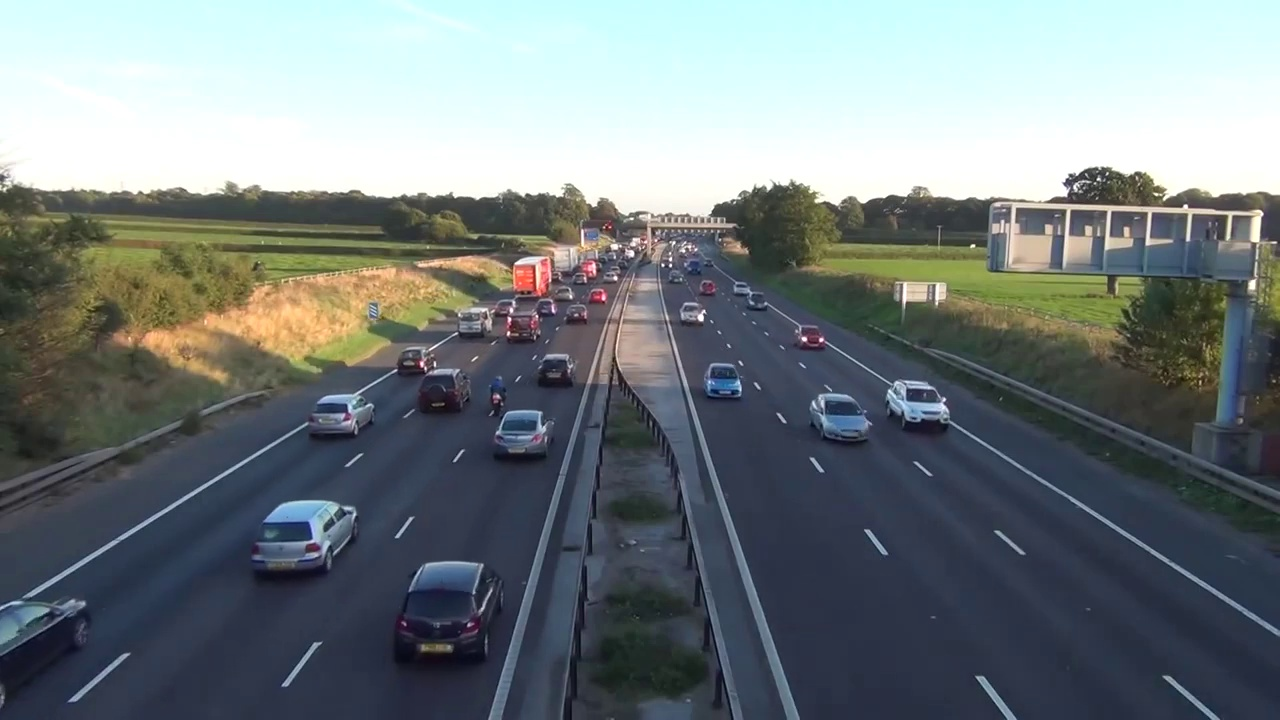bus: (391, 557, 506, 663), (248, 497, 360, 587), (5, 591, 90, 708), (885, 376, 957, 441), (809, 388, 875, 450), (491, 403, 554, 463), (307, 390, 381, 439), (416, 368, 471, 417), (395, 344, 441, 381), (535, 352, 579, 390), (705, 361, 745, 402), (792, 323, 828, 353), (675, 300, 708, 329), (743, 291, 769, 311), (565, 305, 590, 325), (493, 298, 518, 317), (535, 298, 559, 315), (731, 281, 754, 297), (554, 286, 577, 302), (698, 278, 717, 297), (667, 270, 686, 284), (588, 289, 607, 303), (604, 269, 618, 284), (574, 272, 590, 285), (660, 260, 672, 271), (681, 259, 693, 269), (609, 266, 622, 275), (551, 271, 562, 281), (617, 260, 629, 269), (703, 257, 714, 266), (595, 263, 603, 271)
car: (513, 256, 552, 300), (553, 246, 578, 276)
jeep: (486, 375, 509, 416)
lorry: (455, 308, 494, 340), (506, 309, 542, 343), (577, 254, 586, 268)
minibus: (687, 259, 703, 275), (581, 261, 596, 276)
